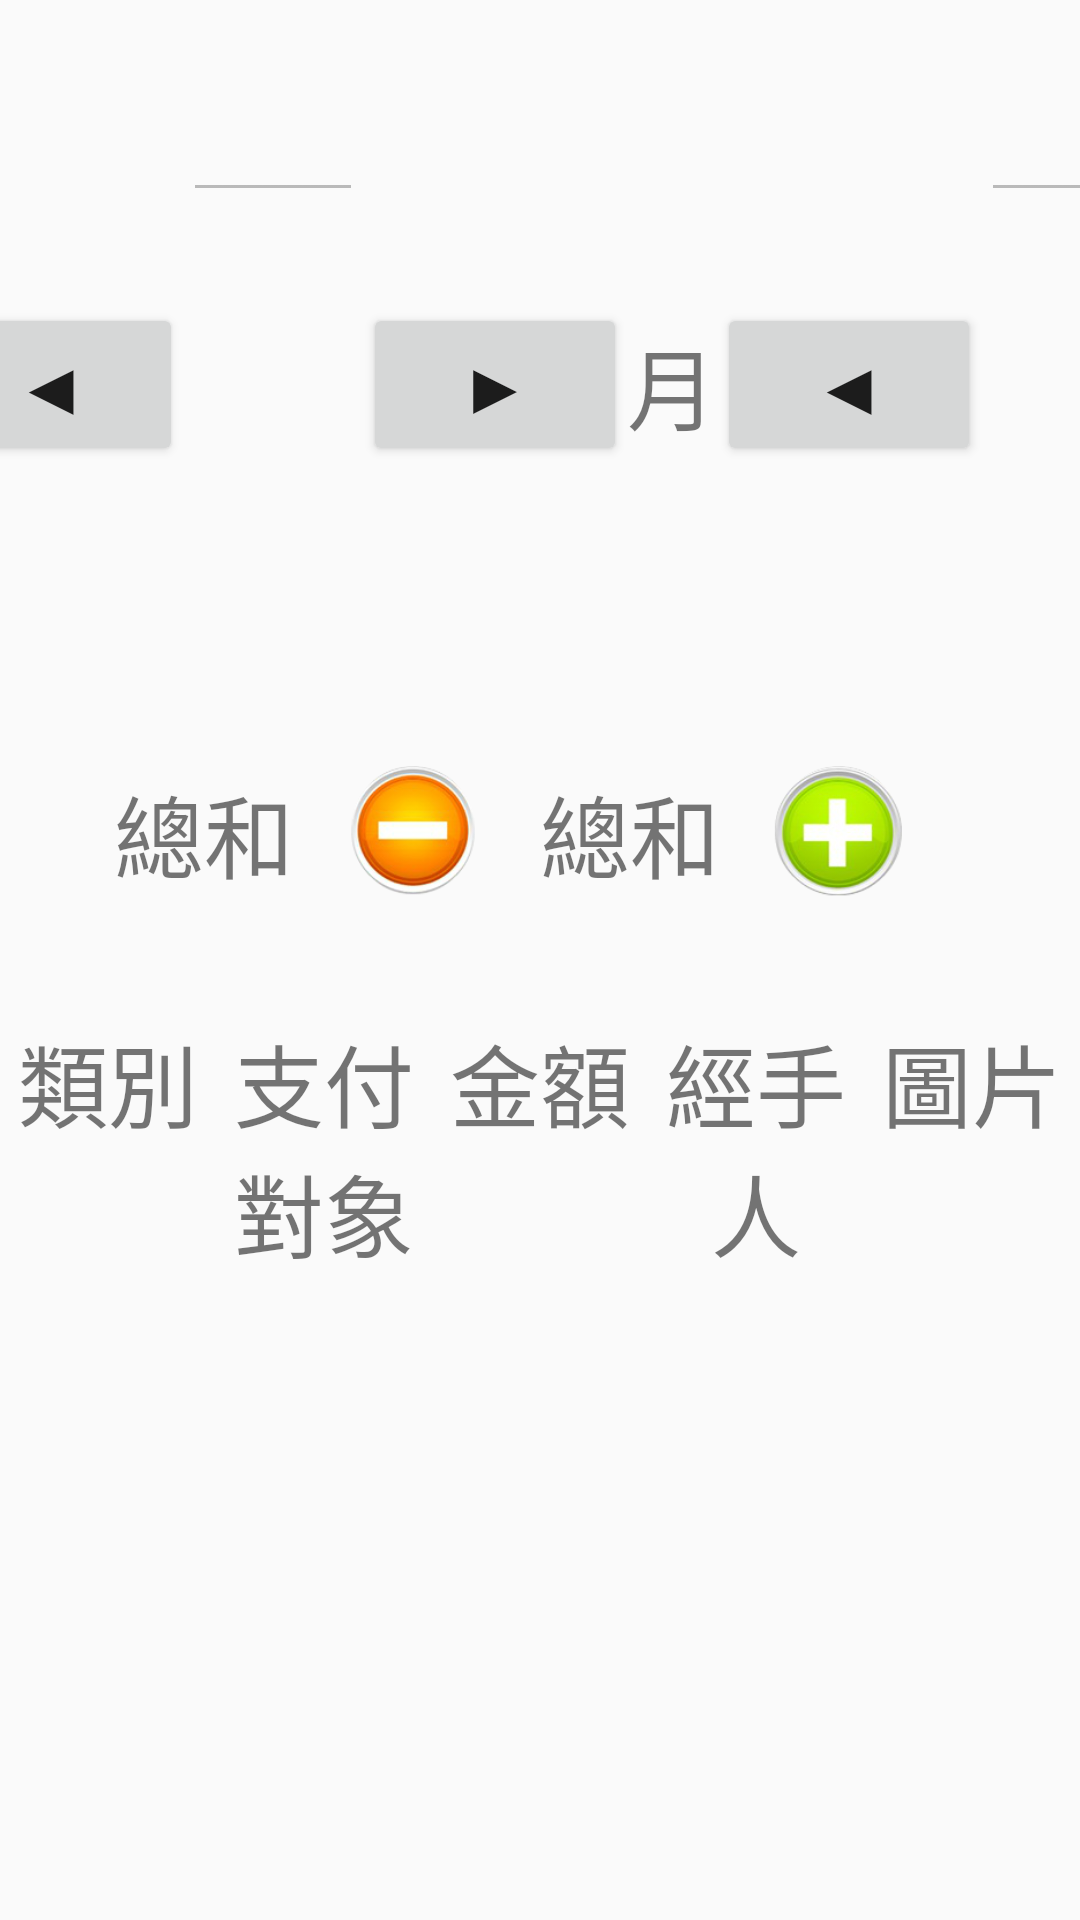

Screen size 1080*1920. Icon name, then its center in pixels as point (x, y):
plus: point (838, 831)
